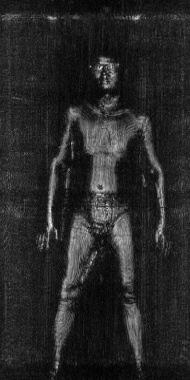gun: (77, 246, 99, 282)
